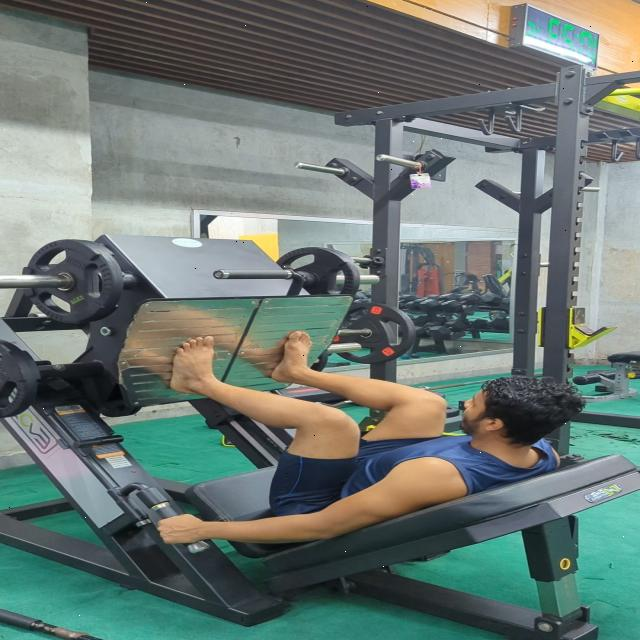Normal_LegPress: (136, 322, 590, 560)
